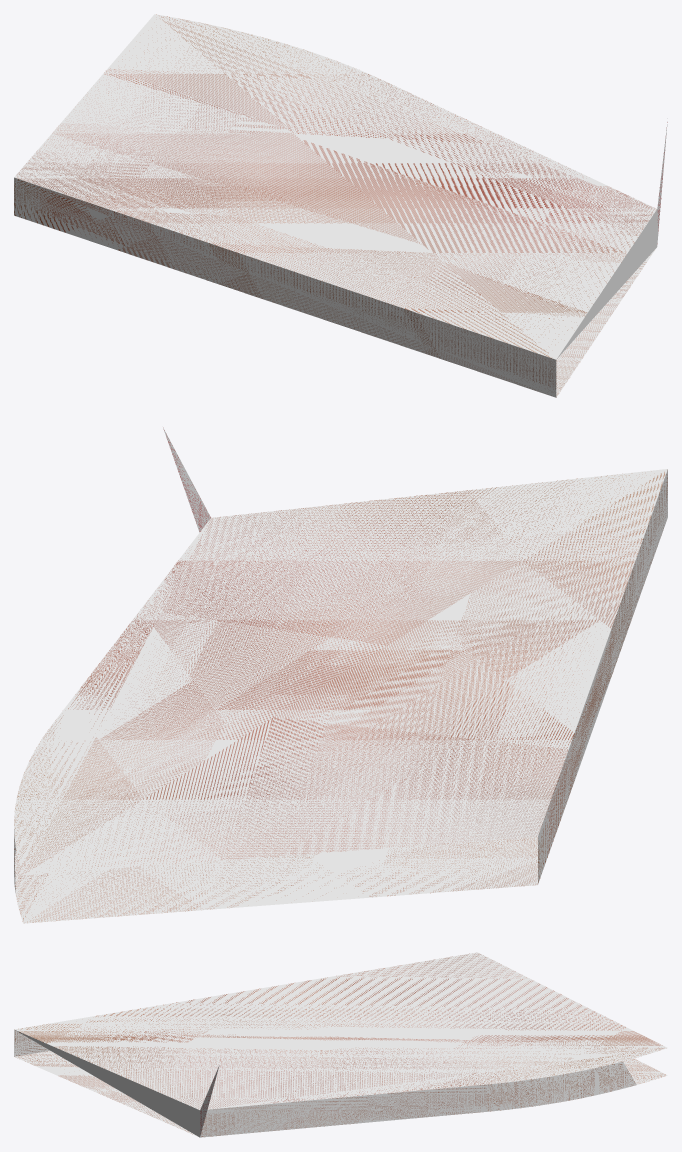
3 renders of one model, top to bottom at view 1: azimuth 30°, elevation 25°; view 2: azimuth 150°, elevation 25°; view 3: azimuth 270°, elevation 25°, orthographic. The views are drawn at different scales.
Bounding box in the file's own units: 0.2127 × 0.0489 × 0.3528.
